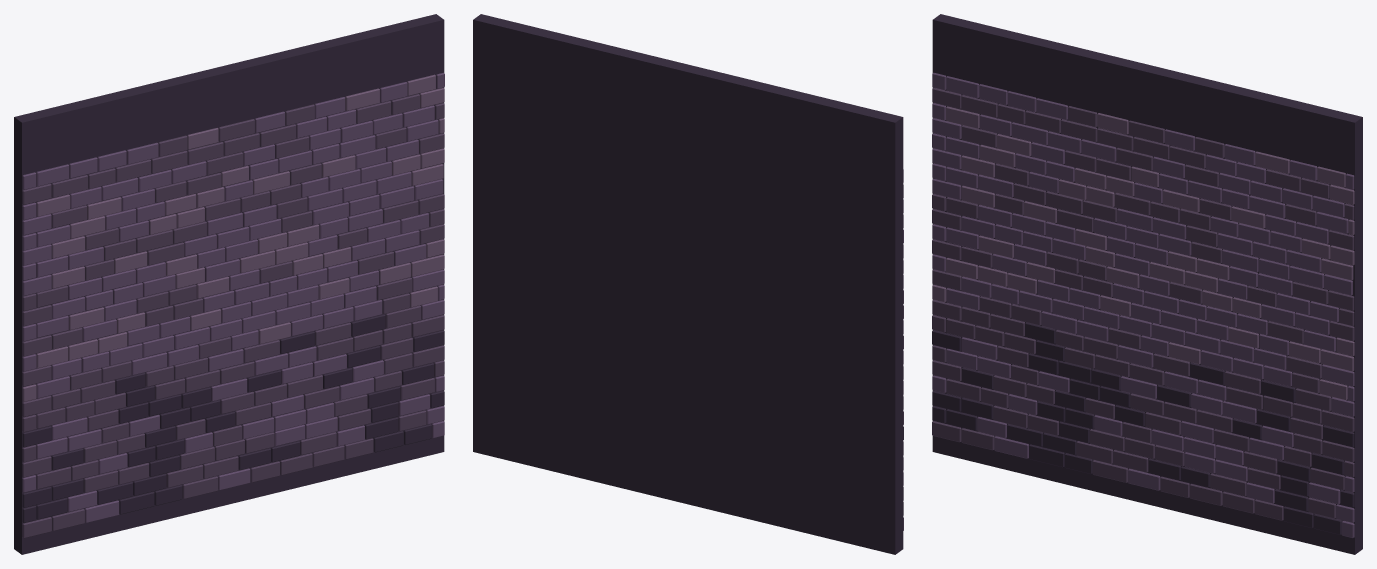
File: SM_Vault_WestWall.fbx
3 renders of one model, left to right at view 1: azimuth 30°, elevation 25°; view 2: azimuth 150°, elevation 25°; view 3: azimuth 330°, elevation 25°, orthographic.
Parts seen in each view (by area): view 1: SM_Vault_WestWall; view 2: SM_Vault_WestWall; view 3: SM_Vault_WestWall.
Boxes of the visible parts, x1,y1,x2,y2 form: SM_Vault_WestWall: [14, 14, 444, 554]; SM_Vault_WestWall: [473, 14, 903, 554]; SM_Vault_WestWall: [932, 14, 1362, 554].
Bounding box in the file's own units: 1605 × 61 × 1570.
